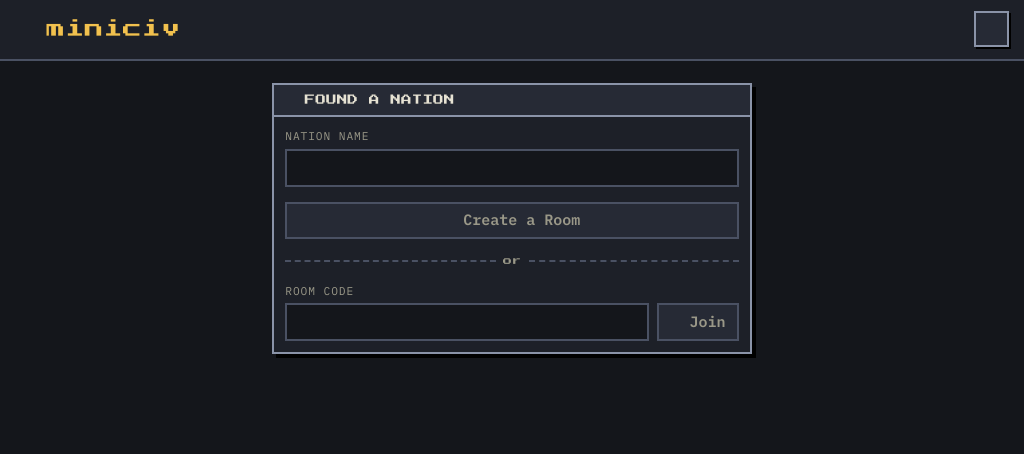
Scenario: Creating a Room › shows the reason the server refused it with 429
Type "Rome" into the field labelled "Nation name" at coordinates (512, 168), box [285,149,739,187]
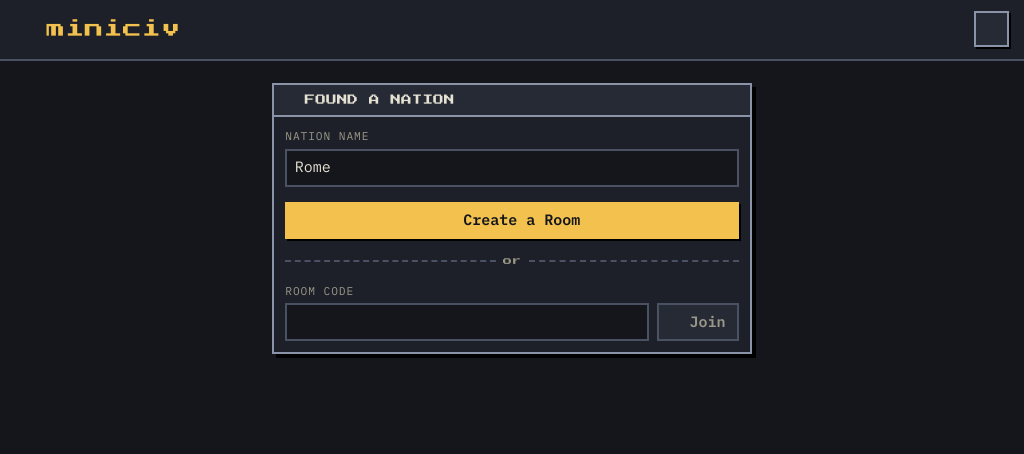
Click the button "Create a Room" at coordinates (512, 220), box [285,202,739,239]
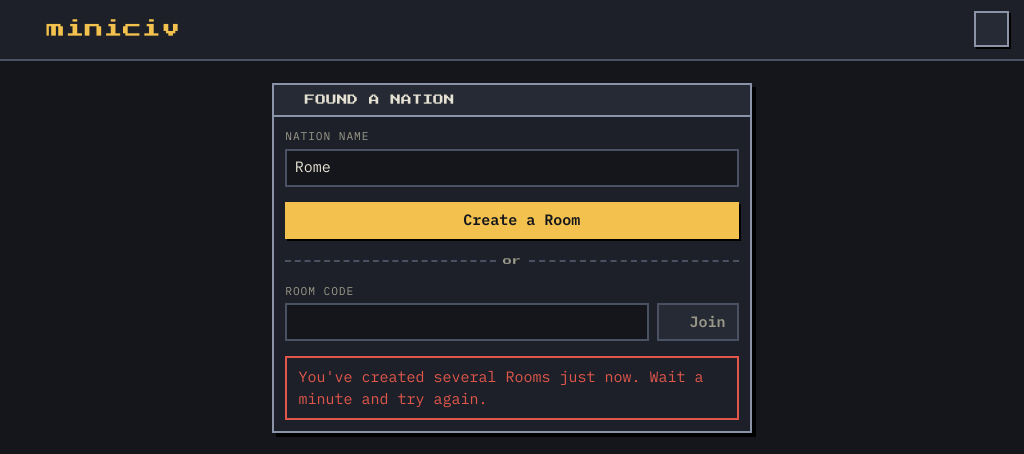
Check: the message reads "You've created several Rooms just now. Wait a minute and try again.", box [298,367,704,408]
